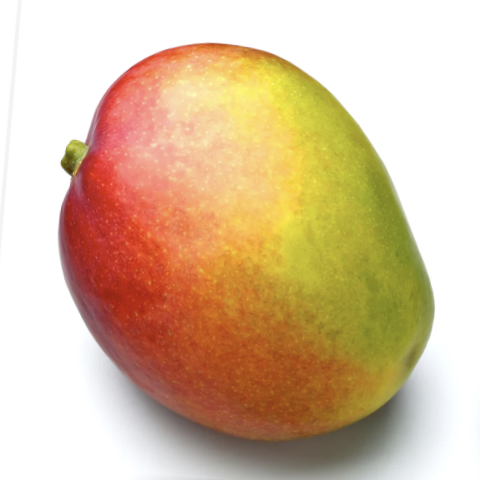mango: (4, 0, 480, 475)
